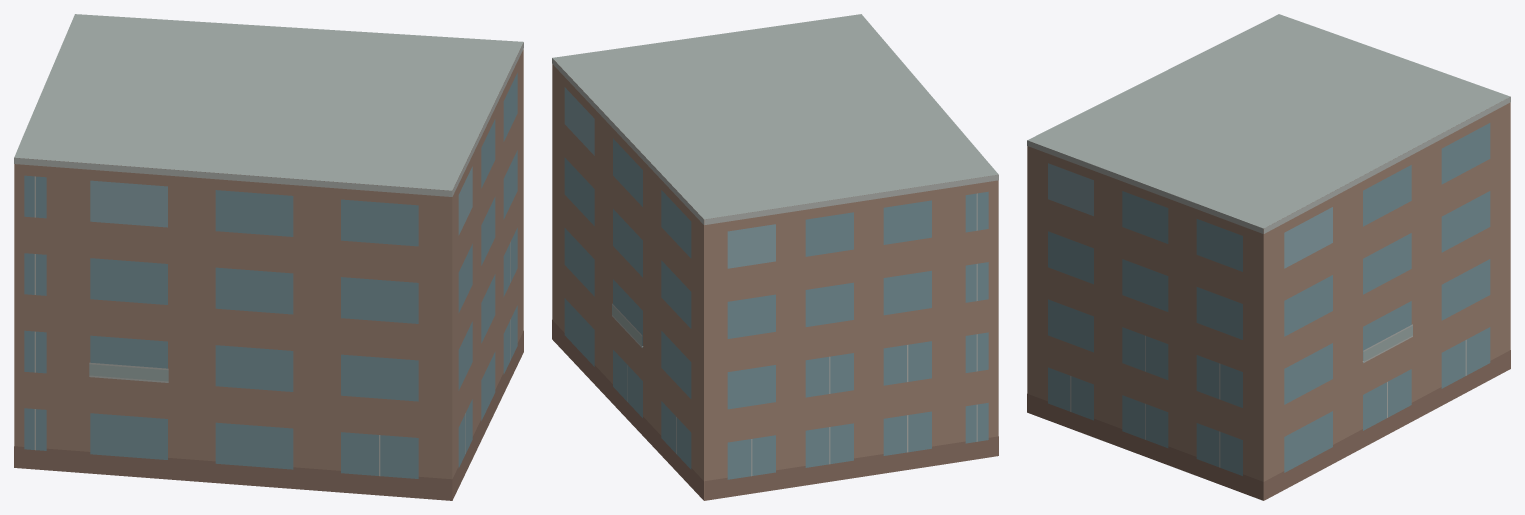
File: survey-upis-32854226.glb
The picture shows the model from 3 angles, left to right: view 1: azimuth 30°, elevation 25°; view 2: azimuth 150°, elevation 25°; view 3: azimuth 270°, elevation 25°; orthographic projection. The views are drawn at different scales.
Visible parts, largest first — view 1: survey-upis-32854226.tmp; view 2: survey-upis-32854226.tmp; view 3: survey-upis-32854226.tmp.
Part boxes in pixels (x1,y1,x2,y2): survey-upis-32854226.tmp: (14,14,523,500); survey-upis-32854226.tmp: (552,14,998,500); survey-upis-32854226.tmp: (1027,14,1510,500).
Bounding box in the file's own units: 20.12 × 11.9 × 19.16.
